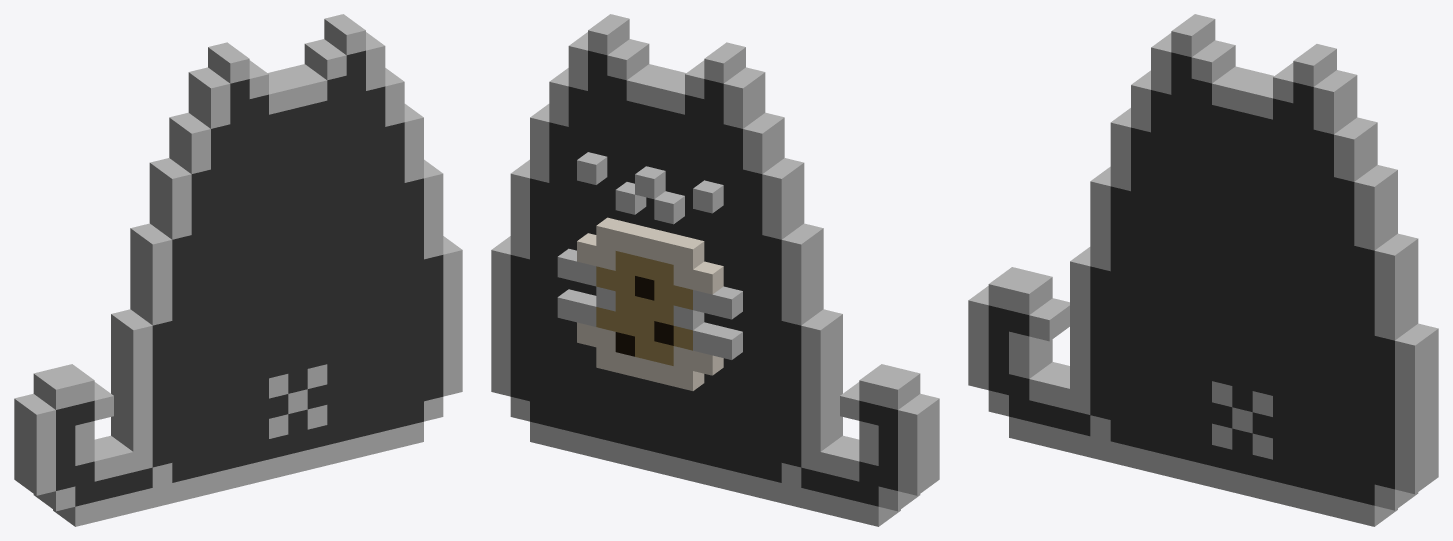
File: black-and-white-pusheen.gltf
3 views of the same model, side by side, from view 1: azimuth 30°, elevation 25°; view 2: azimuth 150°, elevation 25°; view 3: azimuth 330°, elevation 25° (orthographic). The views are drawn at different scales.
Parts seen in each view (by area): view 1: node 1; view 2: node 1; view 3: node 1.
Boxes of the visible parts, box(x1,y1,x2,y2) form: node 1: box(14, 14, 462, 526); node 1: box(491, 14, 939, 526); node 1: box(968, 14, 1438, 526).
Bounding box in the file's own units: 22 × 21 × 3.
Materials: 1 (1 with a texture image).
